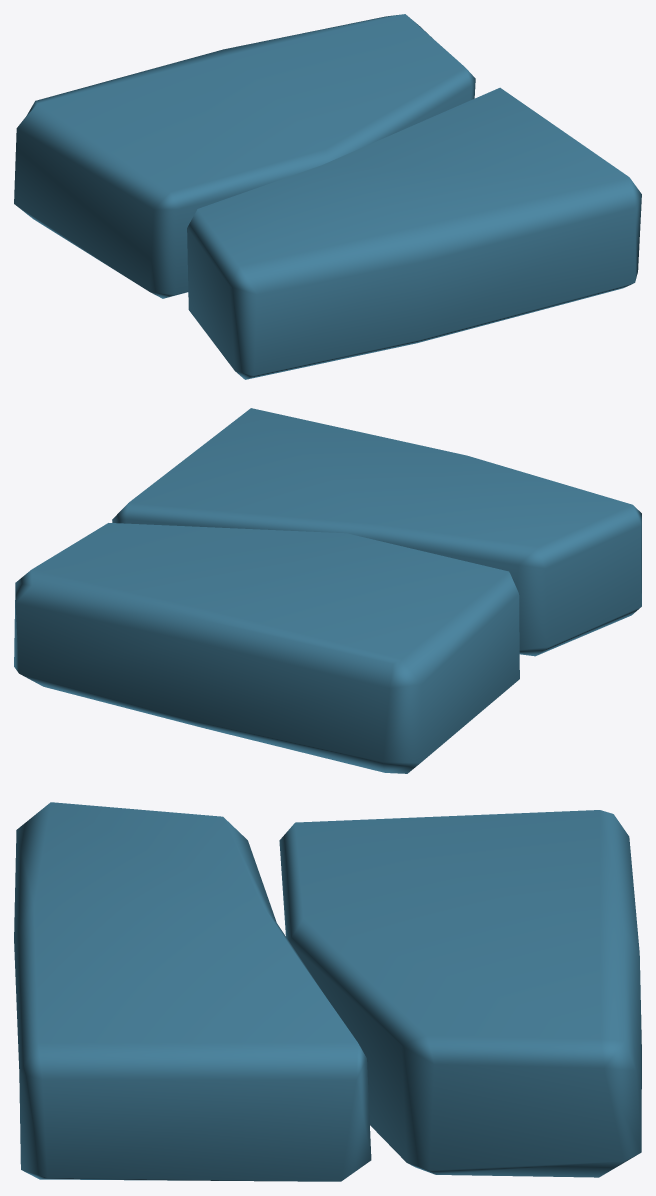
Rendered from Floor_04_Slab_Lod0.fbx.
The picture shows the model from 3 angles, top to bottom: view 1: azimuth 30°, elevation 25°; view 2: azimuth 150°, elevation 25°; view 3: azimuth 270°, elevation 25°; orthographic projection. The views are drawn at different scales.
Visible parts, largest first — view 1: Floor_04_Slab_Lod0; view 2: Floor_04_Slab_Lod0; view 3: Floor_04_Slab_Lod0.
Part boxes in pixels (<box>): Floor_04_Slab_Lod0: <box>14,14,641,379</box>; Floor_04_Slab_Lod0: <box>14,408,641,773</box>; Floor_04_Slab_Lod0: <box>14,802,641,1181</box>.
Size of the model in its own units: 36.49 by 9.91 by 38.19.
